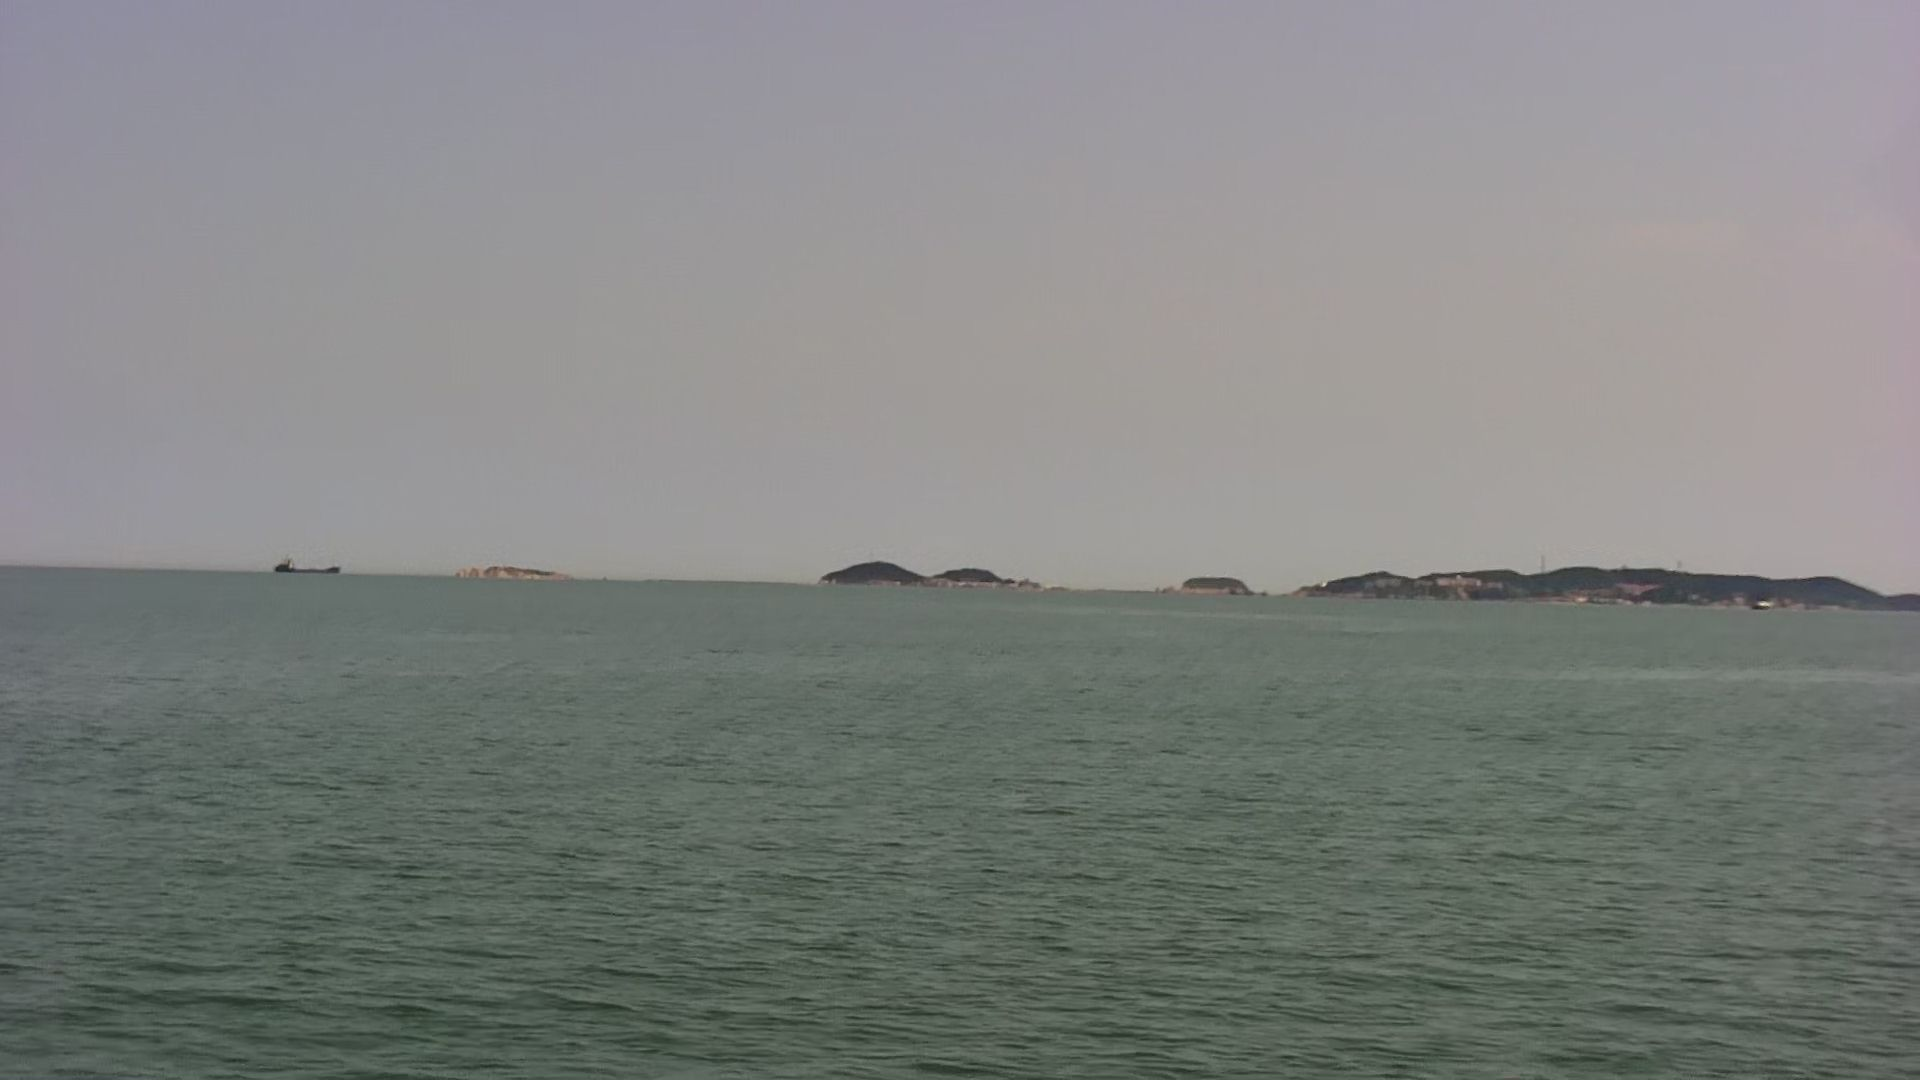rock: (1275, 564, 1920, 611), (818, 556, 1048, 589), (447, 560, 585, 583), (1163, 571, 1266, 600)
ship: (270, 556, 349, 575)
